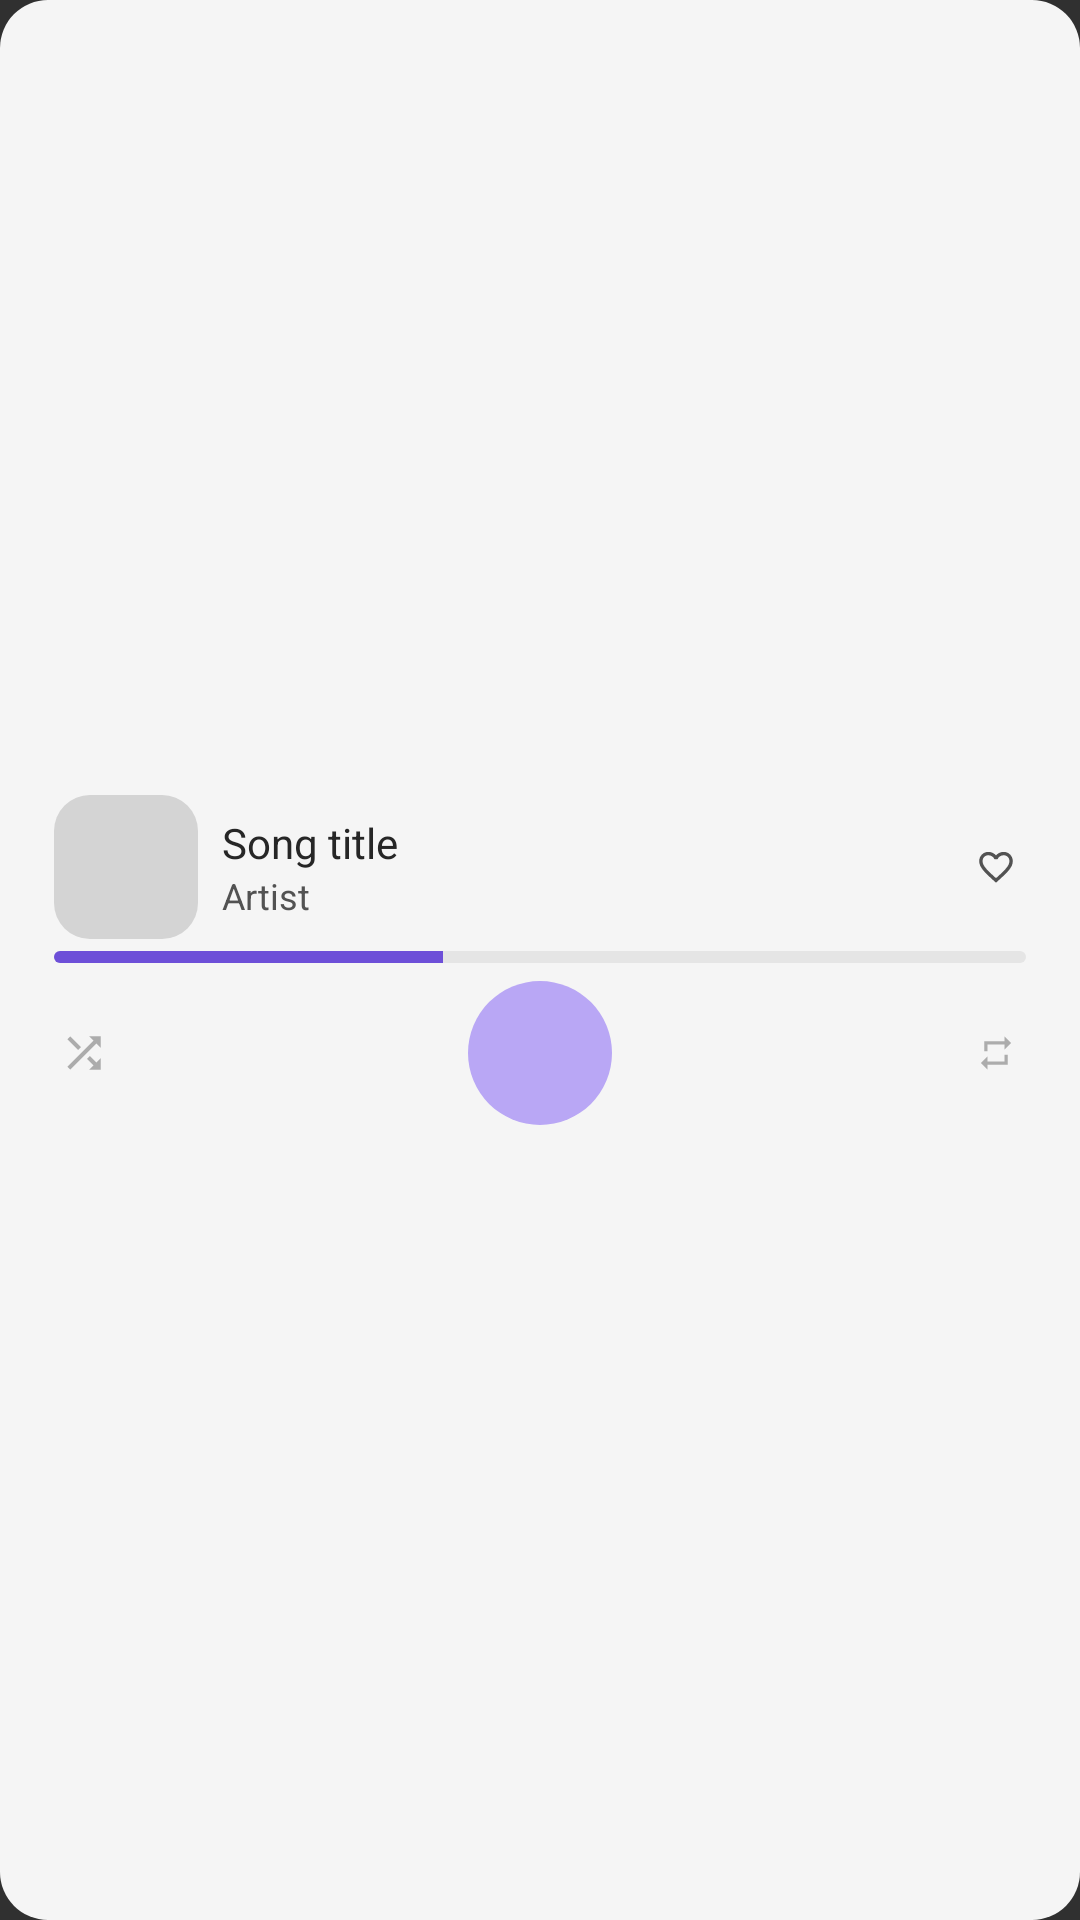

Point at icon controls on the screen. Image size 1080×1920, points as point (x, y).
favorite border: point (996, 867)
repeat off: point (996, 1053)
shuffle off: point (84, 1053)
